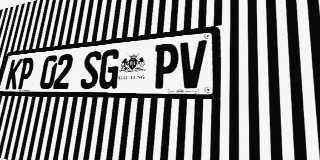0: (39, 55, 59, 89)
2: (53, 53, 74, 89)
G: (97, 48, 121, 89)
K: (5, 58, 23, 89)
P: (152, 43, 179, 89), (16, 57, 35, 89)
S: (79, 50, 102, 89)
V: (178, 40, 207, 88)
